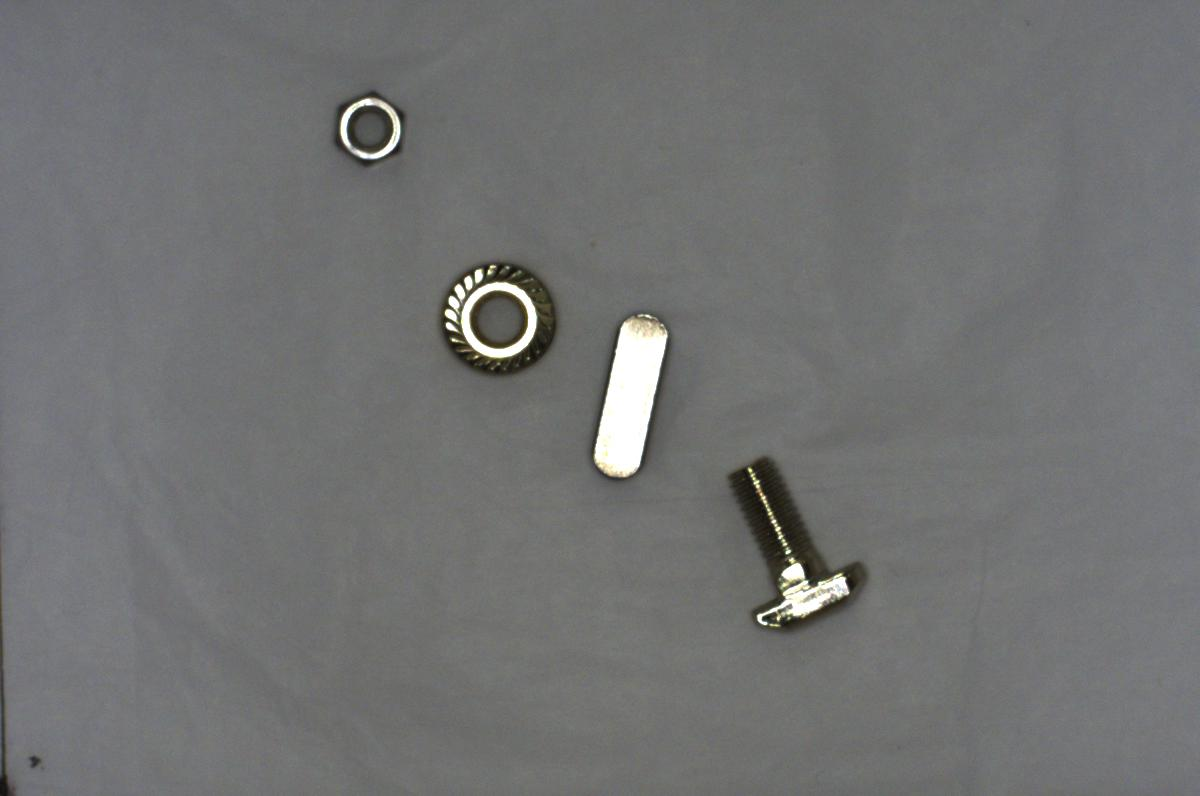Flange nut: (431, 252, 562, 376)
Hexagon nut: (322, 86, 411, 170)
Keybar: (582, 305, 682, 482)
T-shaped screw: (720, 449, 874, 636)
